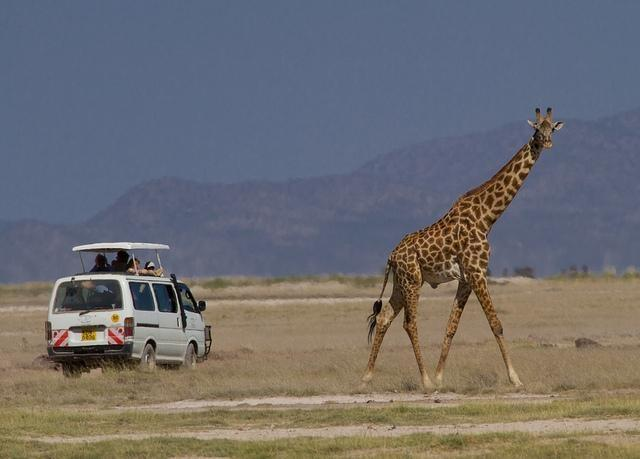bus: (45, 272, 212, 378)
car: (44, 242, 214, 377)
